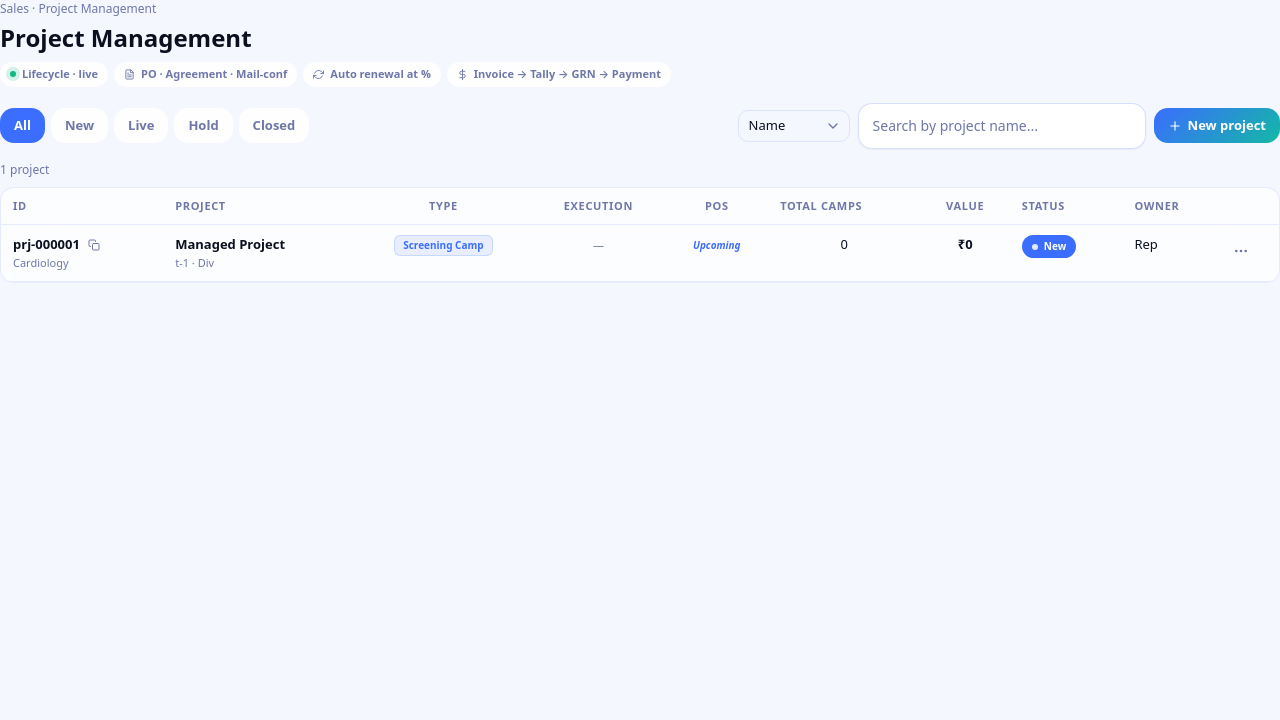
Test case: ProjectsPage — project:create-only session (a Sales Rep), distinct from project:manage › project:manage (Sales Head): New project, Edit, and Change status all show
The image size is (1280, 720).
Expected: the button "New project" is shown, [1154,108,1279,143]
Expected: the text "Managed Project" is shown, [175,235,285,253]
Click the button named "project actions" at (1242, 251), box [1226,235,1258,267]
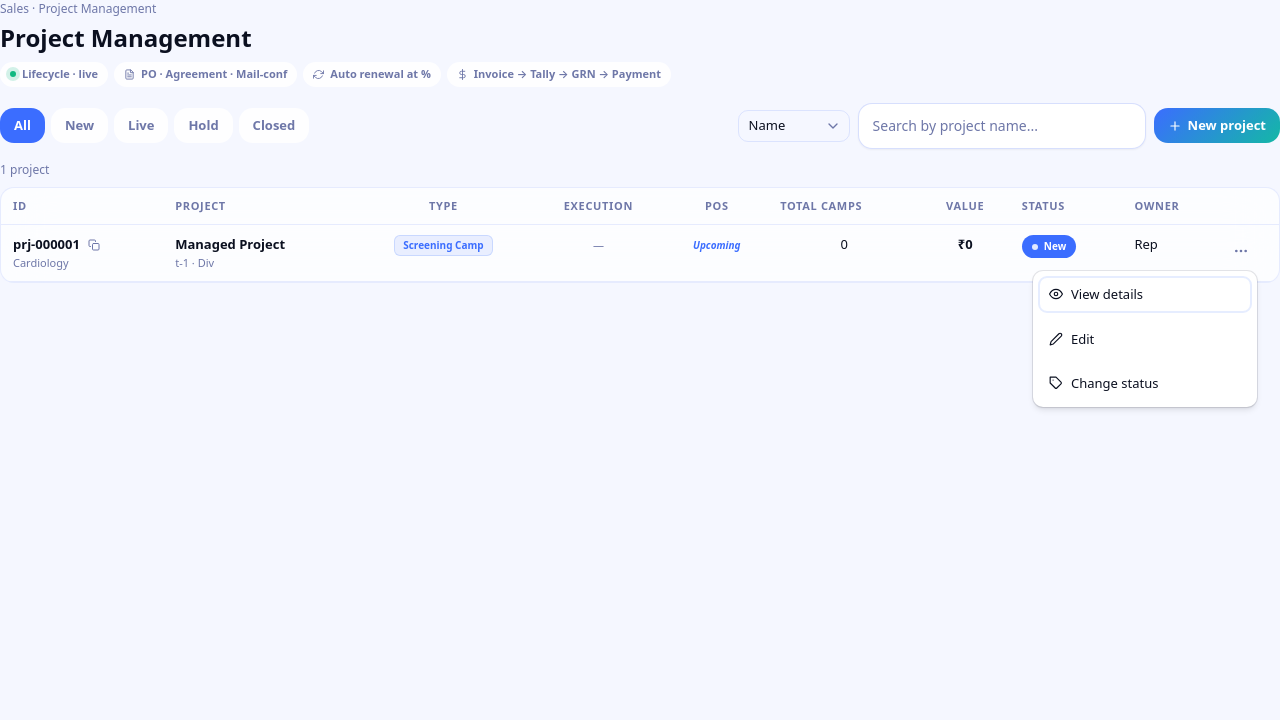
Now the button "Edit" is shown, box [1039,322,1251,356]
Now the button "Change status" is shown, box [1039,366,1251,401]
